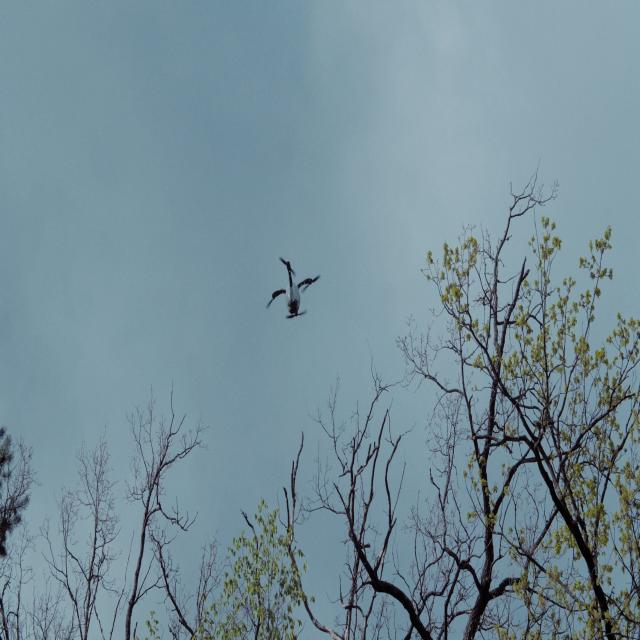Drone: (266, 251, 320, 331)
